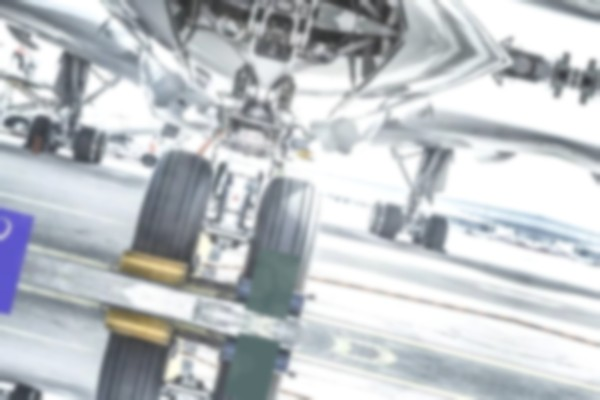chock: (114, 245, 192, 289), (99, 305, 177, 349), (236, 275, 309, 317), (221, 337, 293, 379), (422, 242, 450, 256), (21, 141, 46, 154)
wheel: (233, 170, 331, 315), (124, 143, 219, 276), (80, 320, 175, 400), (192, 337, 289, 400), (23, 111, 67, 155), (69, 123, 108, 166), (413, 210, 451, 252), (365, 198, 403, 240), (407, 210, 433, 246), (43, 118, 66, 154), (365, 198, 387, 234), (2, 113, 33, 138), (209, 159, 229, 197), (247, 168, 266, 206), (90, 129, 110, 164), (4, 384, 43, 400), (140, 152, 158, 168)
